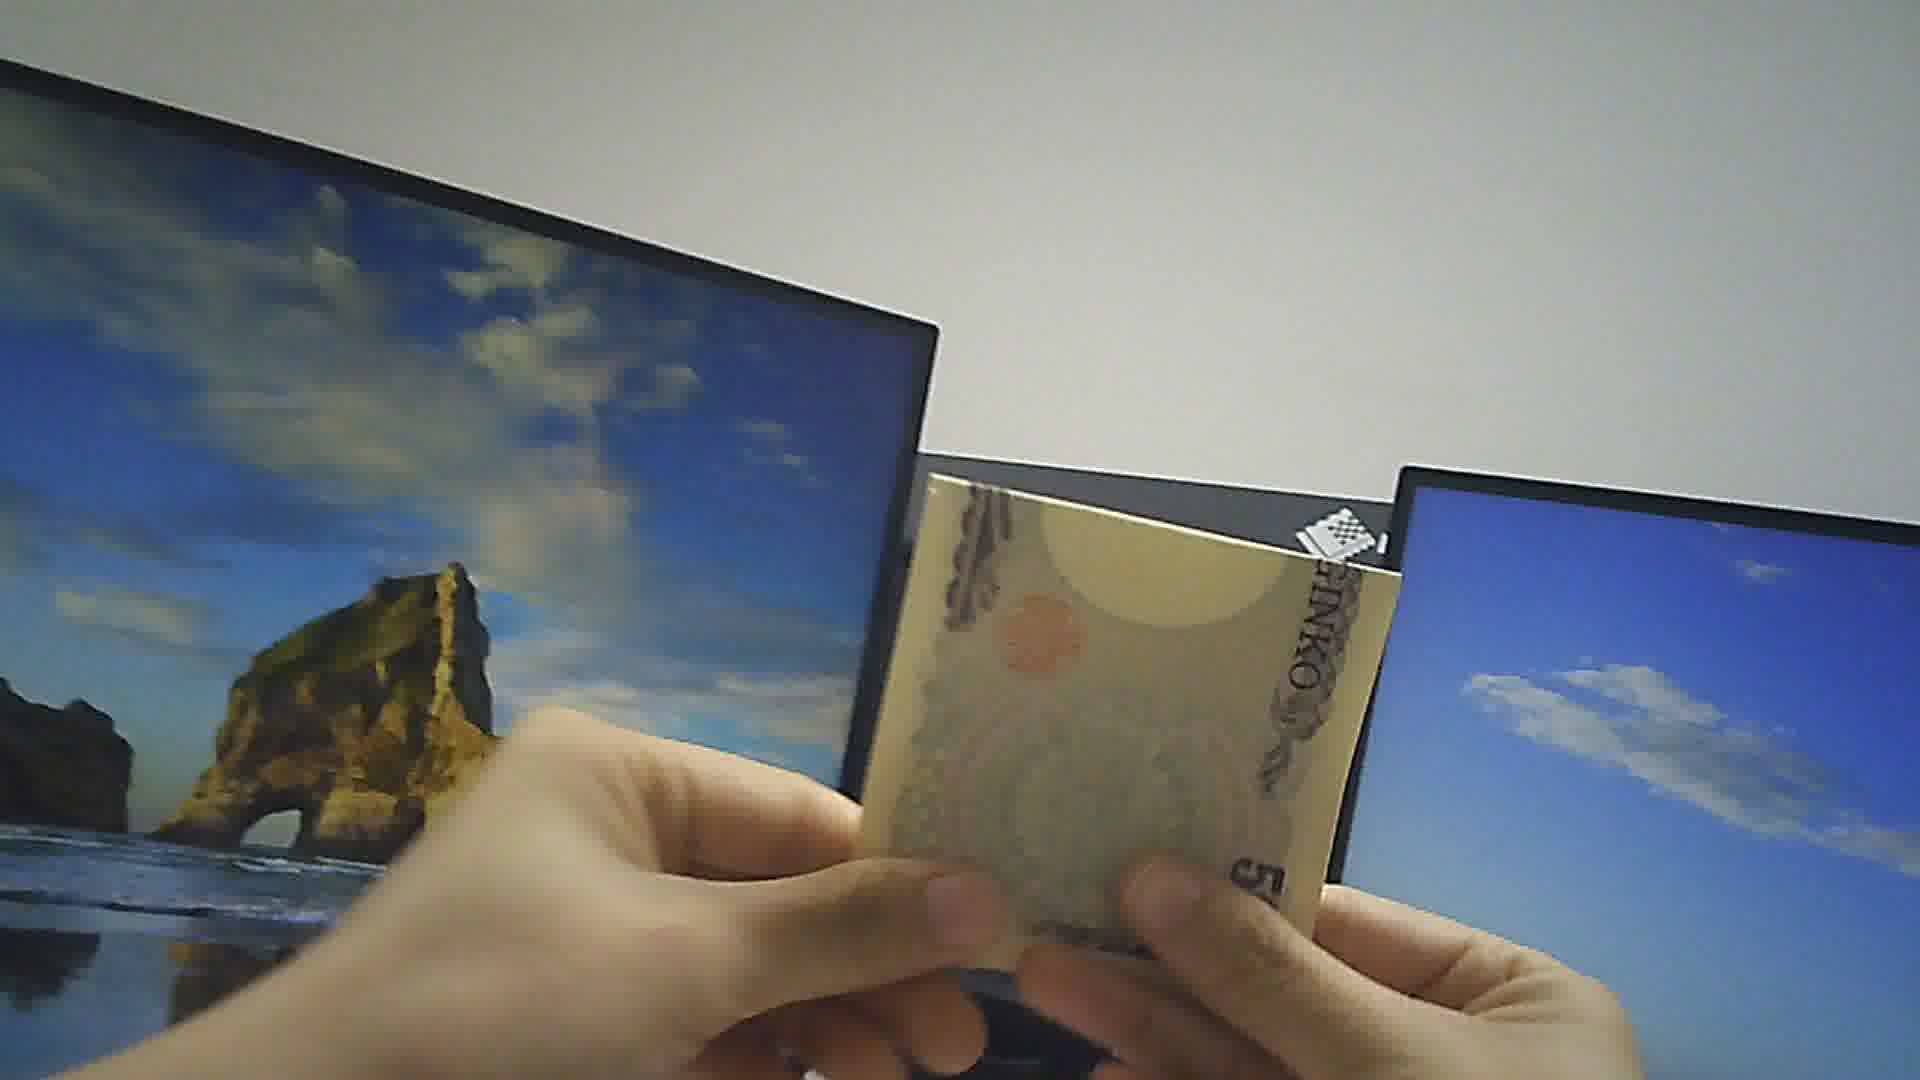5,000 Yen: (874, 462, 1441, 1009)
